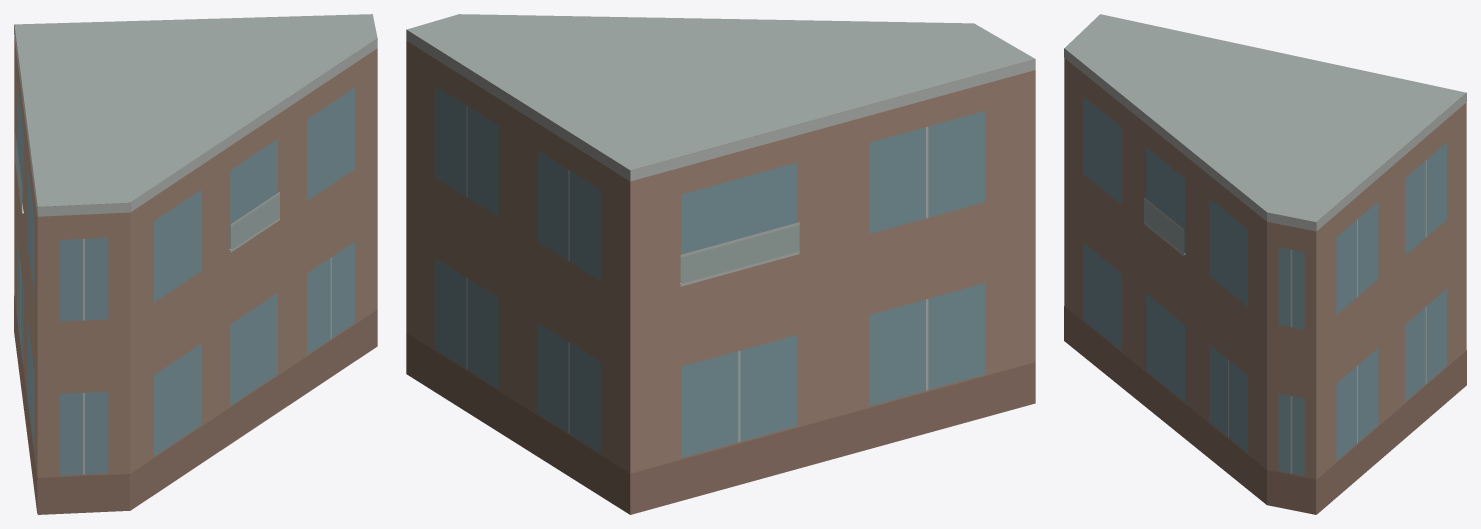
File: survey-upis-32656544.glb
3 renders of one model, left to right at view 1: azimuth 30°, elevation 25°; view 2: azimuth 150°, elevation 25°; view 3: azimuth 270°, elevation 25°, orthographic. The views are drawn at different scales.
Visible parts, largest first — view 1: survey-upis-32656544.tmp; view 2: survey-upis-32656544.tmp; view 3: survey-upis-32656544.tmp.
Boxes of the visible parts, x1,y1,x2,y2 form: survey-upis-32656544.tmp: (14, 14, 377, 514); survey-upis-32656544.tmp: (406, 14, 1035, 514); survey-upis-32656544.tmp: (1064, 14, 1466, 514).
Size of the model in its own units: 11.6 by 7.6 by 9.48.
